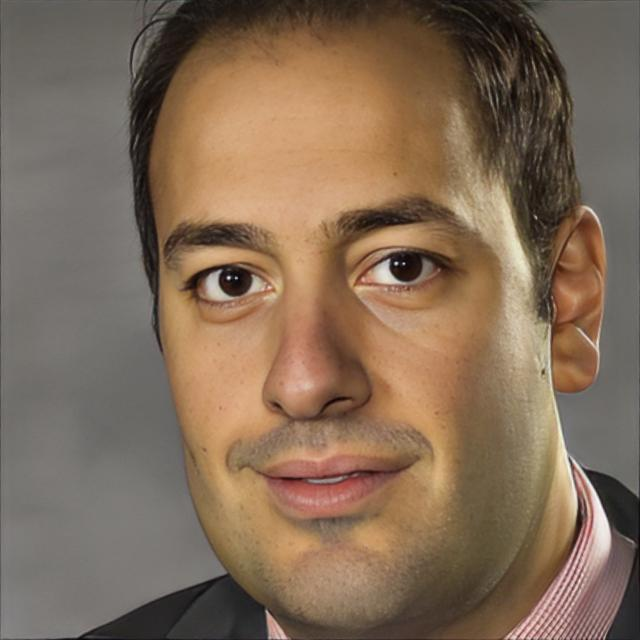content: (144, 1, 552, 630)
